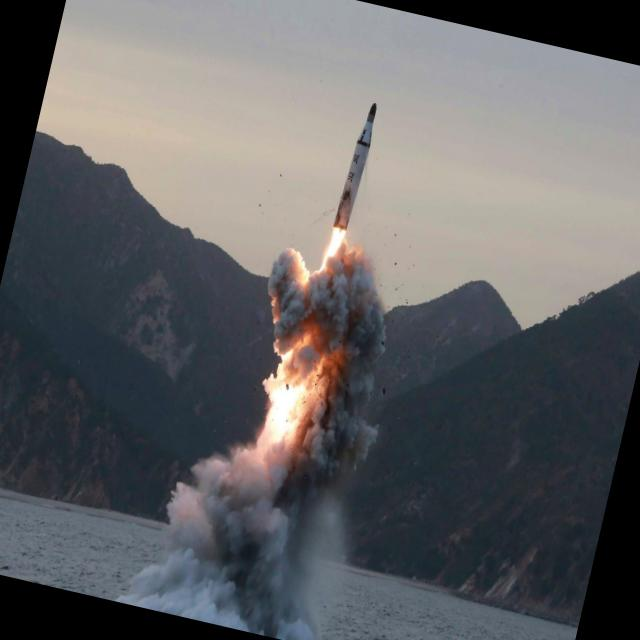rocket: (309, 87, 387, 308)
